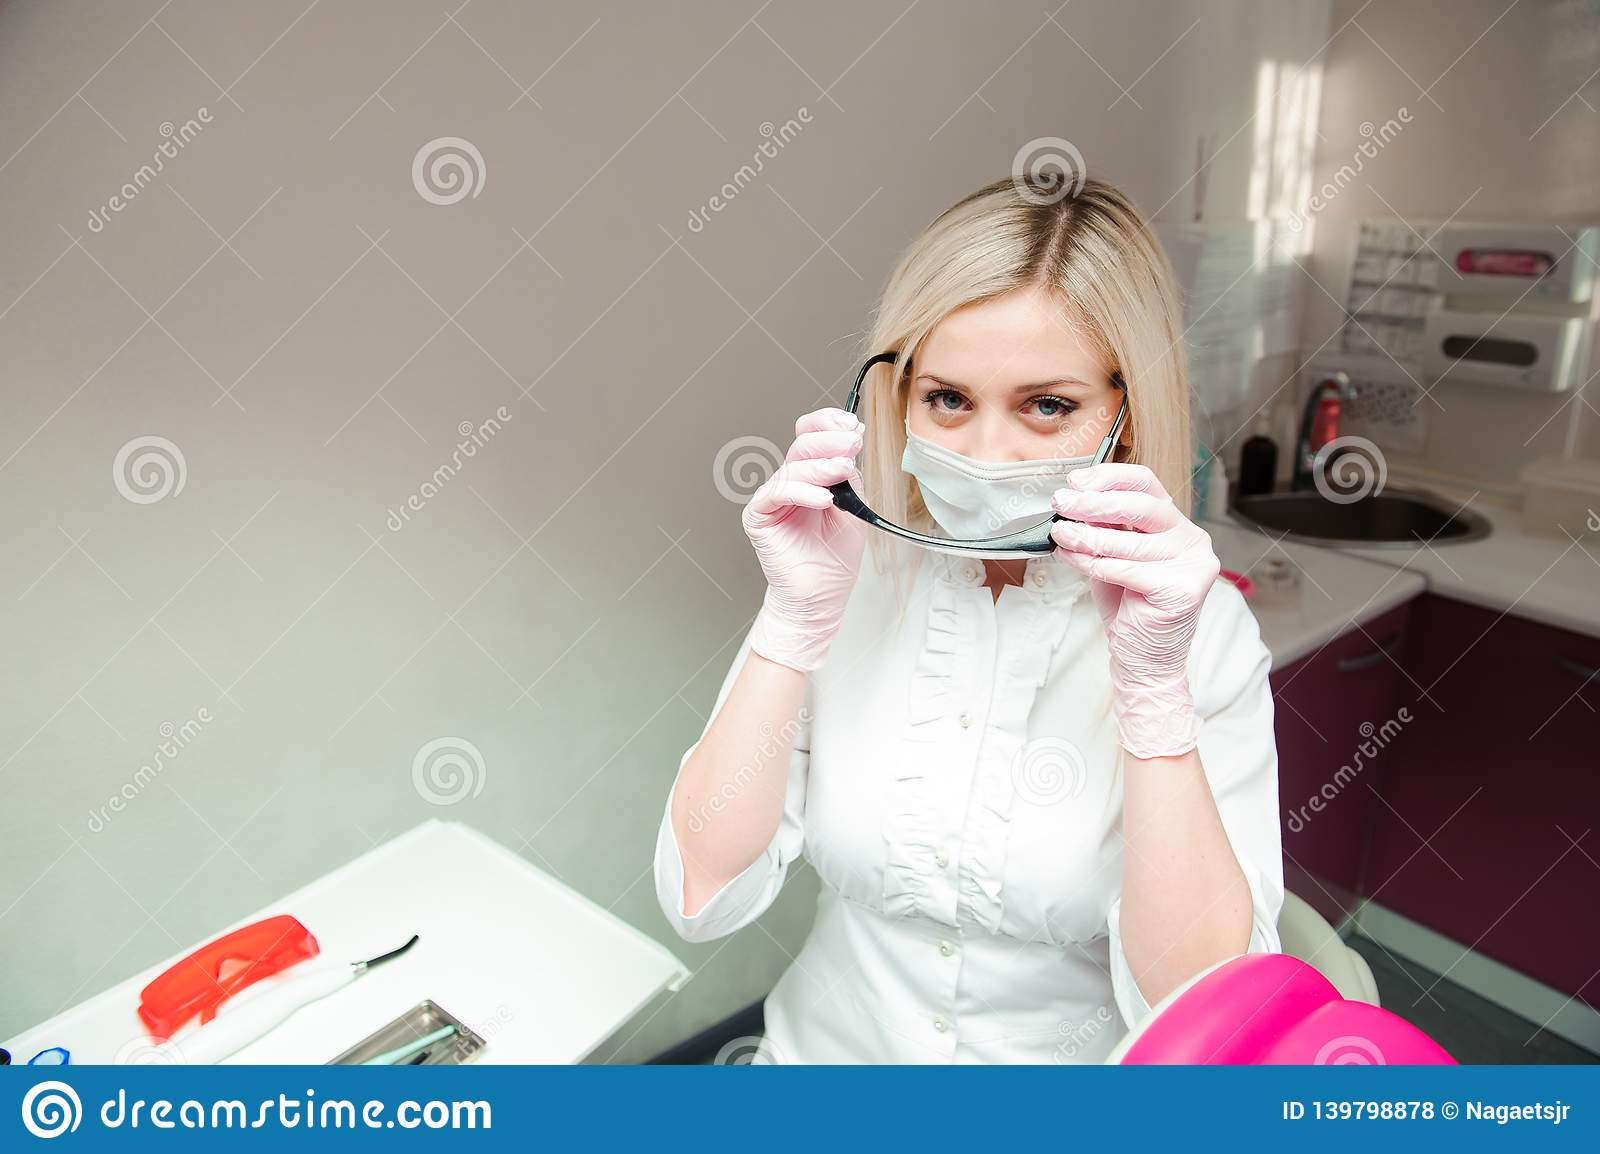mask: (903, 422, 1107, 569)
